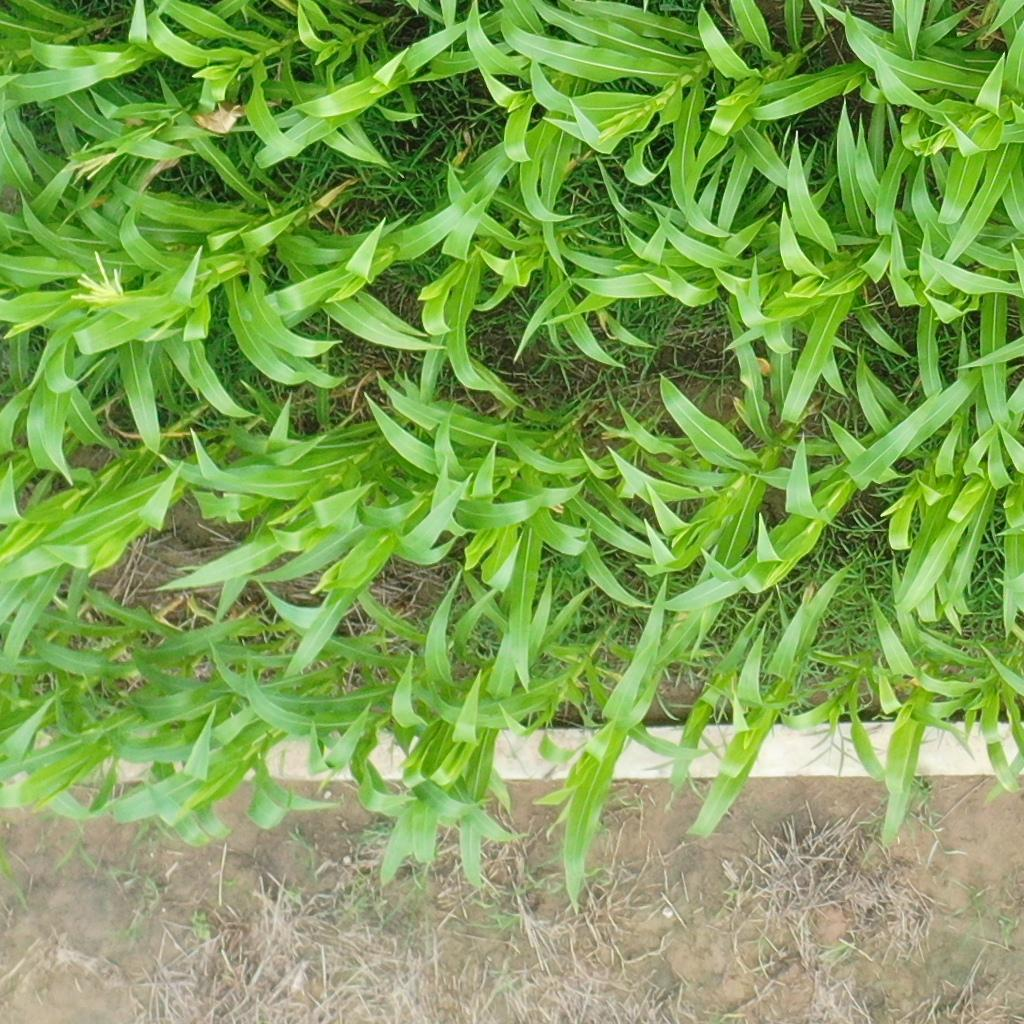Tassel: (71, 251, 130, 305), (70, 151, 119, 180), (926, 123, 954, 159)
